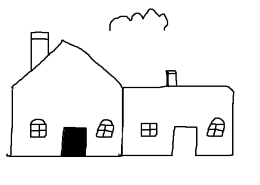chimney: (22, 22, 56, 73), (153, 61, 182, 93)
closed_window: (136, 119, 166, 147), (26, 116, 54, 142), (204, 116, 228, 145), (93, 116, 116, 144)
clouds: (98, 6, 173, 40)
door: (167, 123, 200, 161), (55, 126, 89, 162)
single_line_roof: (9, 36, 126, 98), (118, 81, 239, 98)
wall: (3, 85, 131, 161), (119, 94, 240, 161)
